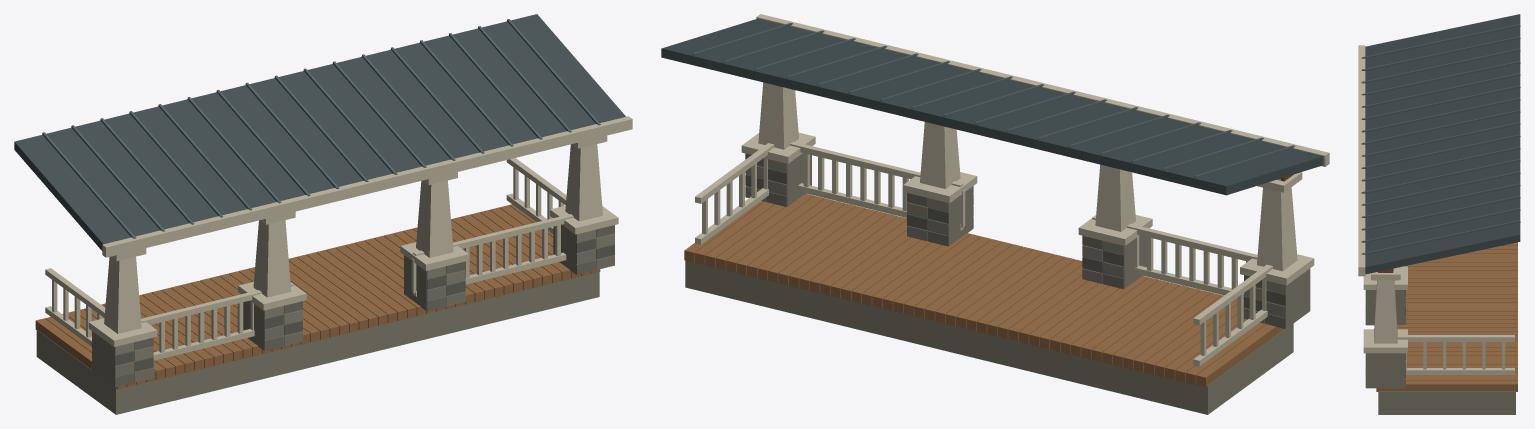
Rendered from veranda.glb.
3 views of the same model, side by side, from view 1: azimuth 30°, elevation 25°; view 2: azimuth 150°, elevation 25°; view 3: azimuth 270°, elevation 25° (orthographic). The views are drawn at different scales.
Parts seen in each view (by area): view 1: KitVerandaDetails, KitVerandaRoofFinish; view 2: KitVerandaDetails, KitVerandaRoofFinish; view 3: KitVerandaRoofFinish, KitVerandaDetails.
Boxes of the visible parts, x1=… form: KitVerandaDetails: x1=35, y1=116, x2=632, y2=414; KitVerandaRoofFinish: x1=14, y1=14, x2=625, y2=250; KitVerandaDetails: x1=684, y1=14, x2=1329, y2=414; KitVerandaRoofFinish: x1=661, y1=18, x2=1323, y2=195; KitVerandaRoofFinish: x1=1361, y1=14, x2=1520, y2=274; KitVerandaDetails: x1=1358, y1=45, x2=1517, y2=414.
Size of the model in its own units: 8.56 by 3.42 by 2.64.
